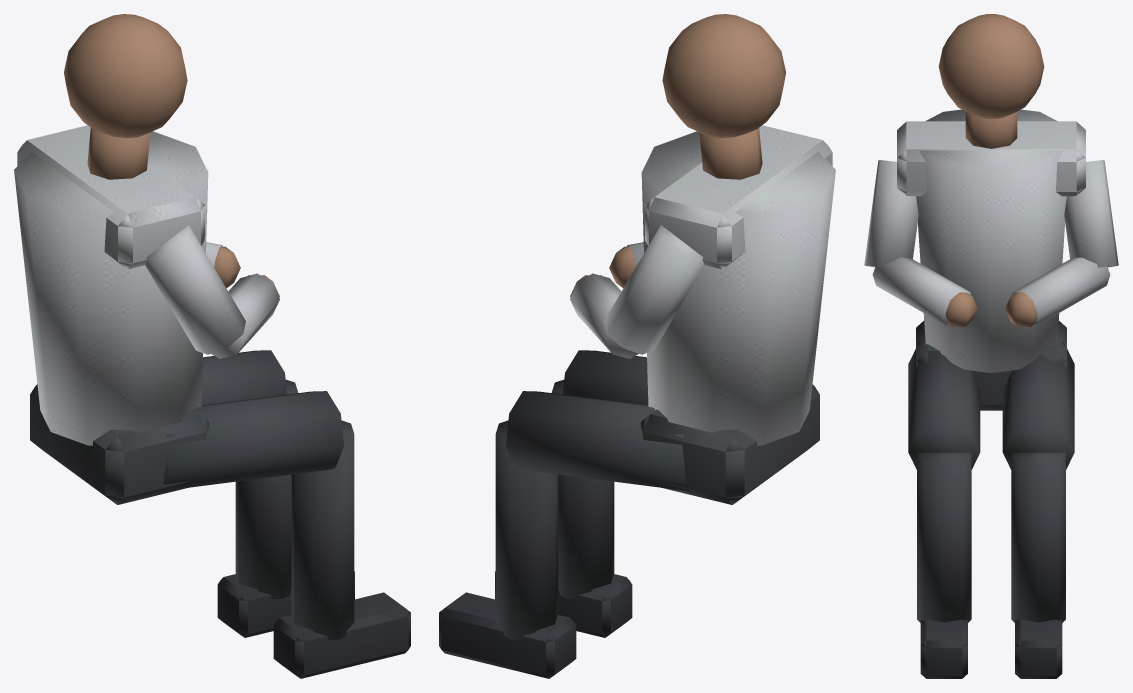
The model's file is crowd-seated-1_high.glb.
The picture shows the model from 3 angles, left to right: view 1: azimuth 30°, elevation 25°; view 2: azimuth 150°, elevation 25°; view 3: azimuth 270°, elevation 25°; orthographic projection. The views are drawn at different scales.
Parts seen in each view (by area): view 1: clothing, dark-steel, skin, rubber; view 2: clothing, dark-steel, skin, rubber; view 3: clothing, dark-steel, skin, rubber.
Part boxes in pixels (x1=…): clothing: x1=14, y1=125, x2=279, y2=445; dark-steel: x1=30, y1=350, x2=354, y2=640; skin: x1=64, y1=14, x2=279, y2=297; rubber: x1=217, y1=571, x2=410, y2=678; clothing: x1=570, y1=125, x2=835, y2=445; dark-steel: x1=495, y1=350, x2=819, y2=640; skin: x1=570, y1=14, x2=785, y2=297; rubber: x1=439, y1=571, x2=632, y2=678; clothing: x1=864, y1=109, x2=1118, y2=372; dark-steel: x1=908, y1=320, x2=1074, y2=622; skin: x1=938, y1=14, x2=1044, y2=326; rubber: x1=920, y1=619, x2=1062, y2=678.
Size of the model in its own units: 0.7148 by 1.31 by 0.5396.
Materials: 4 (3 with a texture image).
